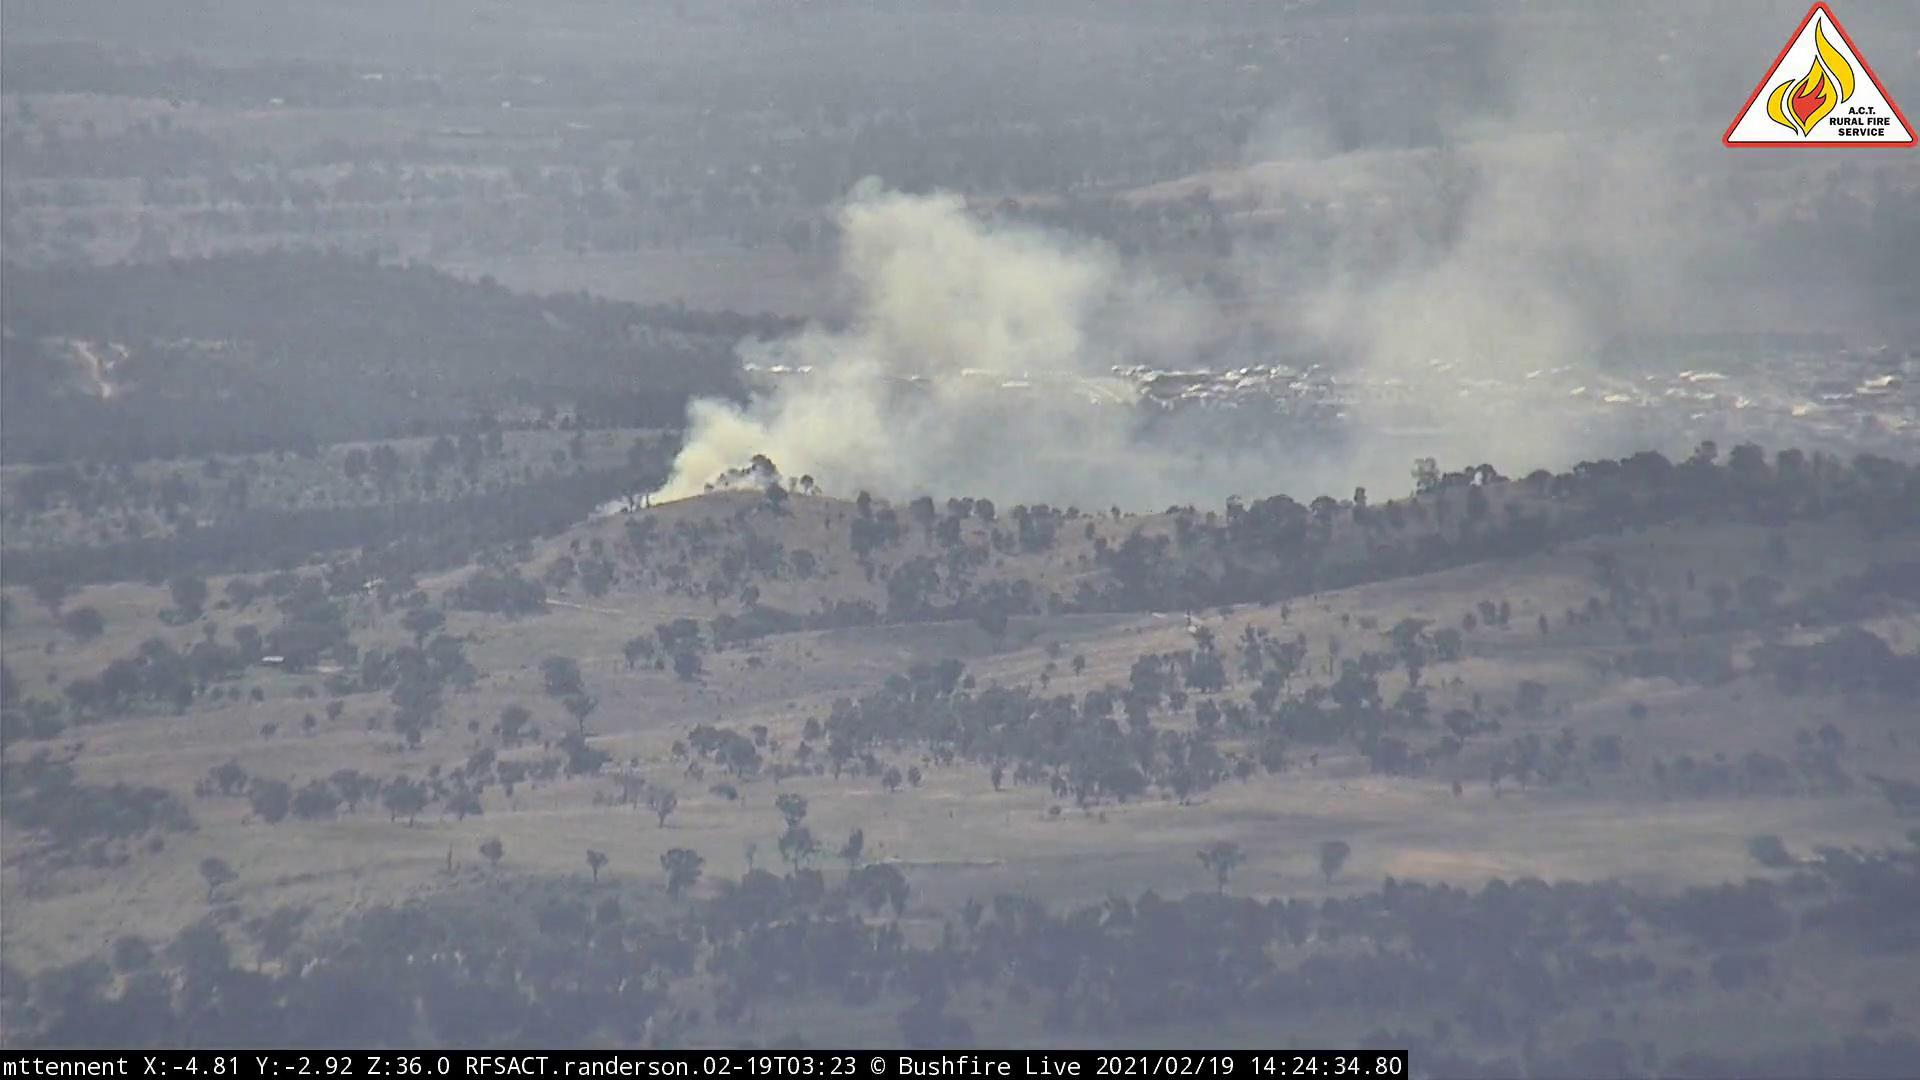Smoke: (575, 108, 1571, 531)
